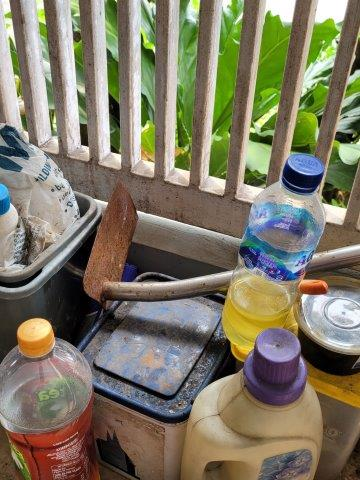botolplastik: (223, 154, 327, 358), (1, 318, 93, 480)
